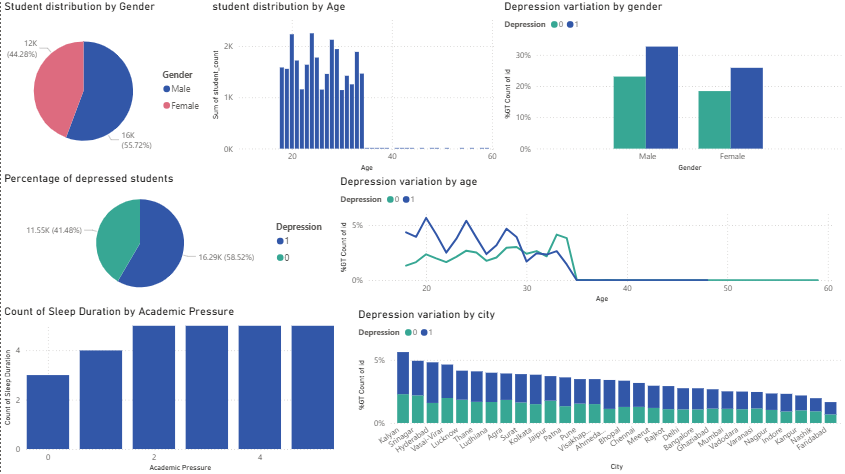

This screenshot's page, from the dashboard's own definition file:
{"tool":"powerbi","page":{"name":"General Exploration","canvas":[1280,720],"ordinal":0},"visuals":[{"type":"pieChart","title":" Student distribution  by Gender","fields":{"Category":["student_depression_db student_age_distribution.Gender"],"Y":["Sum(student_depression_db student_age_distribution.student_count)"]},"box":[0,0,315.7,260],"z":0},{"type":"columnChart","title":" student distribution by Age","fields":{"Category":["student_depression_db student_age_distribution.Age"],"Y":["Sum(student_depression_db student_age_distribution.student_count)"]},"box":[315.7,0,441.4,265.7],"z":1000},{"type":"clusteredColumnChart","fields":{"Category":["student_depression_db student depression dataset.Academic Pressure"],"Y":["Count(student_depression_db student depression dataset.Sleep Duration)"]},"box":[0,461.9,509.5,258.7],"z":2000},{"type":"pieChart","title":"Percentage of depressed students ","fields":{"Category":["student_depression_db student depression dataset.Depression"],"Y":["CountNonNull(student_depression_db student depression dataset.id)"]},"box":[0,260.3,509.5,200],"z":3000},{"type":"clusteredColumnChart","title":"Depression vartiation by gender","fields":{"Y":["Sum(student_depression_db student depression dataset.id)"],"Category":["student_depression_db student depression dataset.Gender"],"Series":["student_depression_db student depression dataset.Depression"]},"box":[757.1,0,522.9,265.7],"z":4000},{"type":"lineChart","title":"Depression variation by age","fields":{"Category":["student_depression_db student depression dataset.Age"],"Y":["CountNonNull(student_depression_db student depression dataset.id)"],"Series":["student_depression_db student depression dataset.Depression"]},"box":[509.5,265.1,758.7,200],"z":5000},{"type":"lineStackedColumnComboChart","title":"Depression variation by city","fields":{"Category":["student_depression_db student depression dataset.City"],"Series":["student_depression_db student depression dataset.Depression"],"Y":["CountNonNull(student_depression_db student depression dataset.id)"]},"box":[536.3,467.3,743.5,252.7],"z":6000}]}

Visuals, with their boxes in screenshot pixels (x1, y1, x2, y2), scaled from the page's 1280x720 canvas onto the 845x474 screenshot:
" Student distribution  by Gender" pieChart: l=0, t=0, r=208, b=171
" student distribution by Age" columnChart: l=208, t=0, r=500, b=175
clusteredColumnChart - student_depression_db student depression dataset.Academic Pressure x Count(student_depression_db student depression dataset.Sleep Duration): l=0, t=304, r=336, b=473
"Percentage of depressed students " pieChart: l=0, t=171, r=336, b=303
"Depression vartiation by gender" clusteredColumnChart: l=500, t=0, r=844, b=175
"Depression variation by age" lineChart: l=336, t=175, r=837, b=306
"Depression variation by city" lineStackedColumnComboChart: l=354, t=308, r=844, b=473
